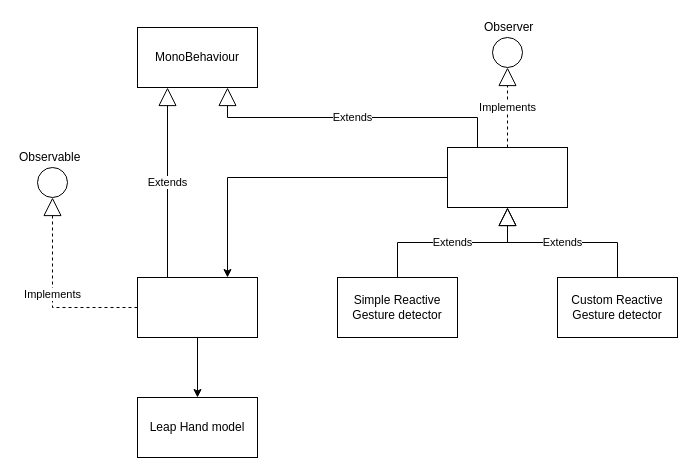
Some shapes in this 695 by 475 pixel diagram are drawn without their labels. Here are the shapes that lost their labels. From the top down, the centre of each, then its label:
At pixel 507 177: "Reactive Gesture detector".
At pixel 197 307: "Reactive Hand model".
